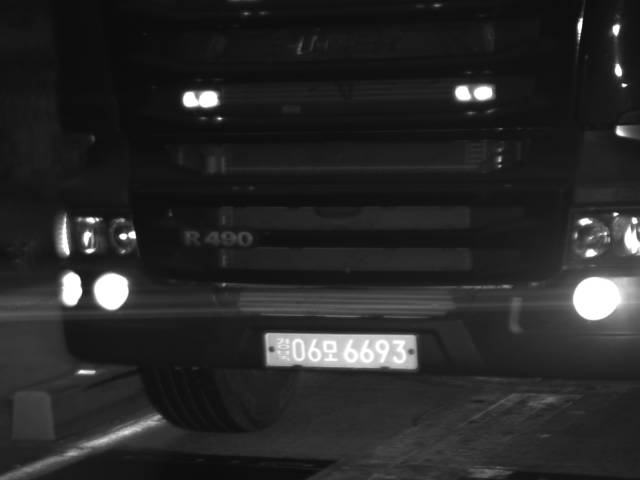car: (39, 1, 638, 432)
plate: (263, 331, 420, 371)
